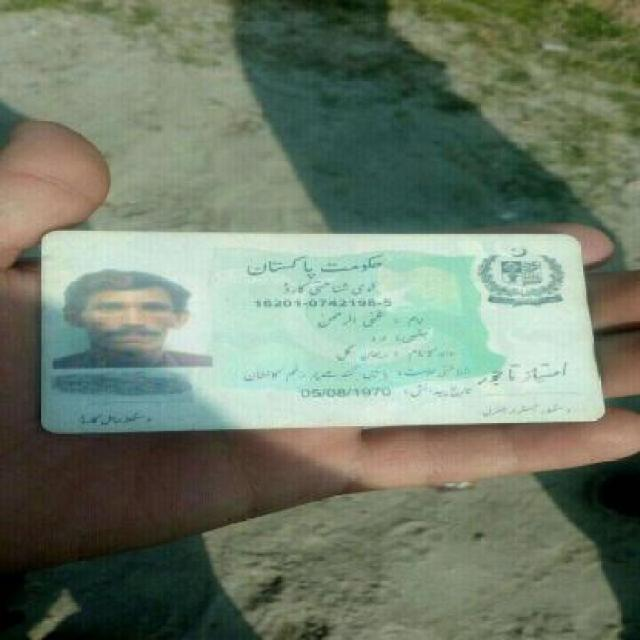Front: (22, 222, 616, 432)
